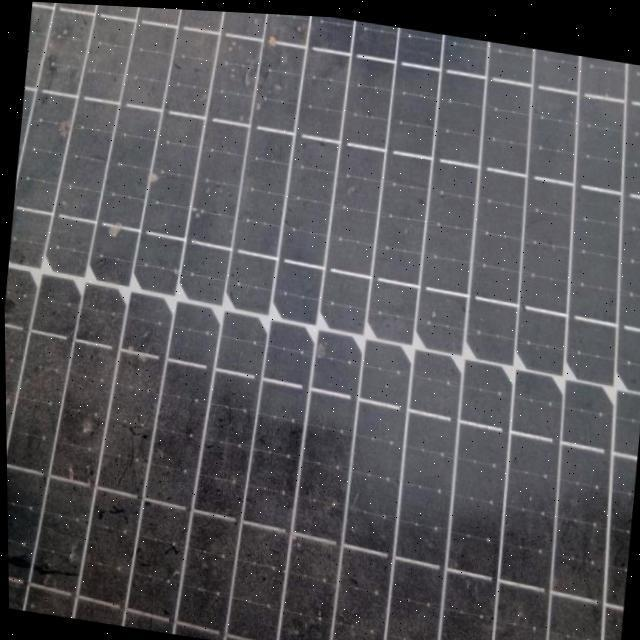Surface Contaminant: (4, 1, 640, 640)
